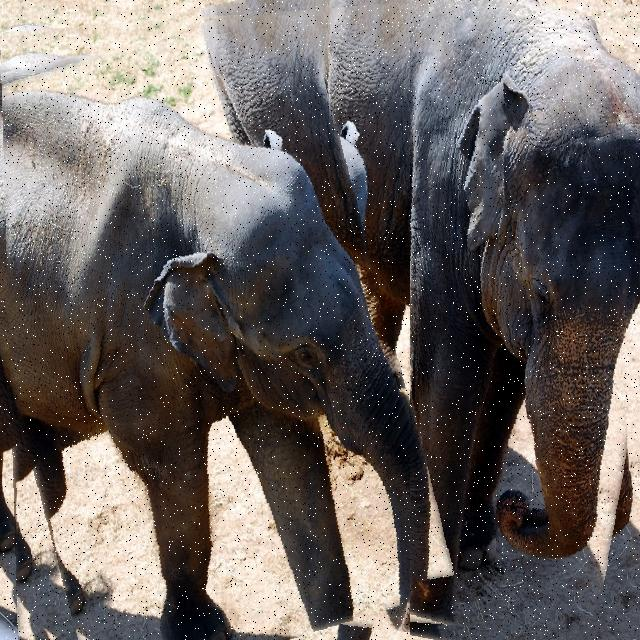elephant: (0, 2, 410, 640), (245, 0, 640, 640)
